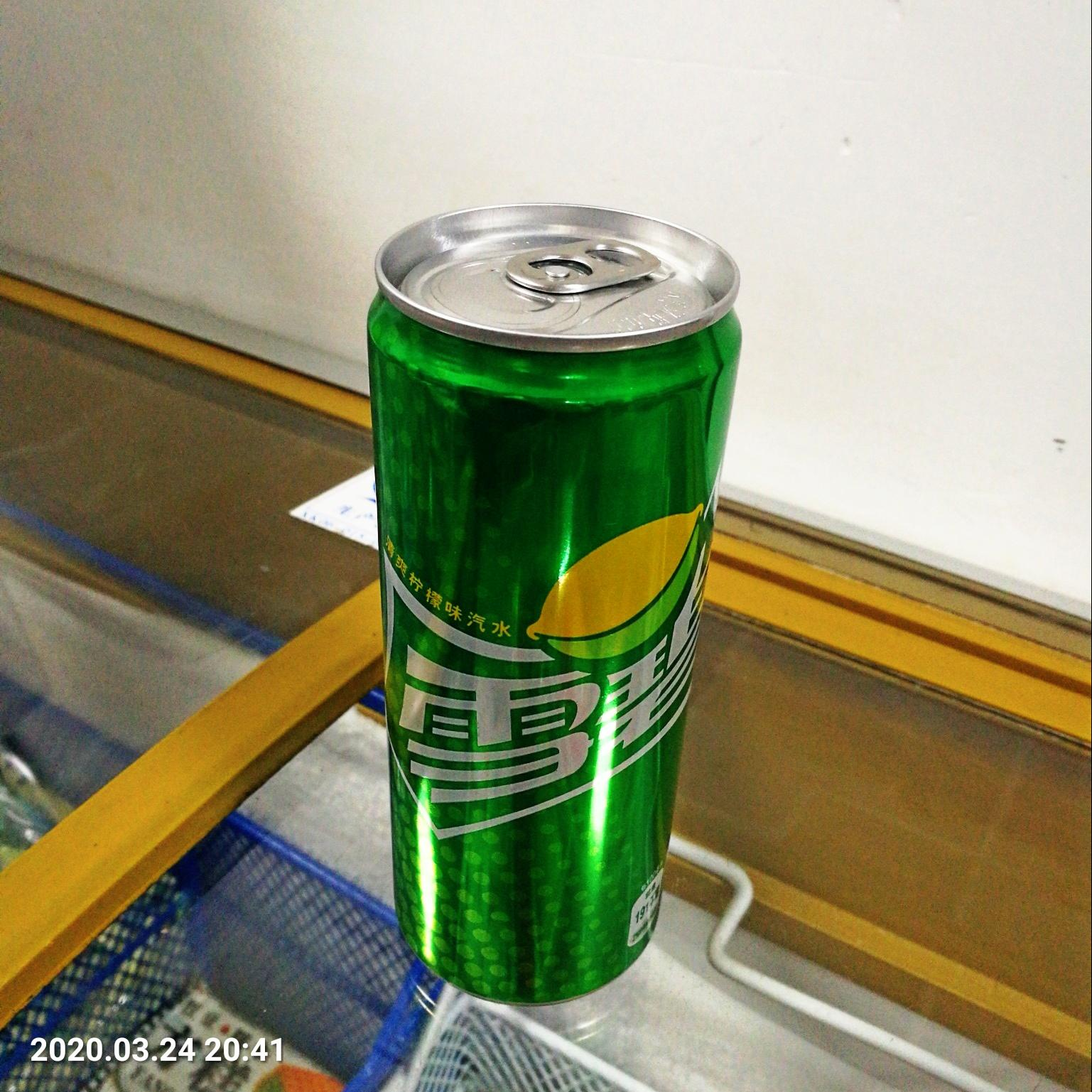metal: (367, 203, 742, 1006)
